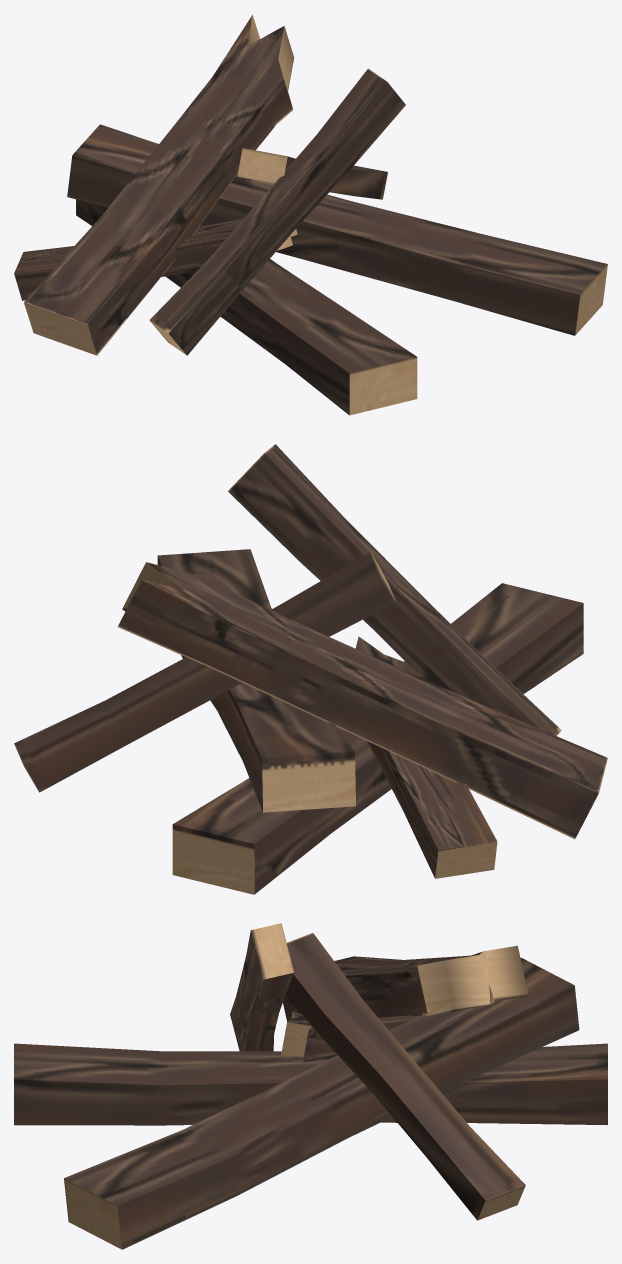
File: SM_wood_RESS.fbx
3 views of the same model, one above another, from view 1: azimuth 30°, elevation 25°; view 2: azimuth 150°, elevation 25°; view 3: azimuth 270°, elevation 25° (orthographic). The views are drawn at different scales.
Parts seen in each view (by area): view 1: SM_wood_RESS; view 2: SM_wood_RESS; view 3: SM_wood_RESS.
Part boxes in pixels (x1,y1,x2,y2): SM_wood_RESS: (14, 15, 607, 415); SM_wood_RESS: (14, 444, 607, 894); SM_wood_RESS: (14, 923, 607, 1249).
Size of the model in its own units: 2.38 by 1.08 by 2.37.
